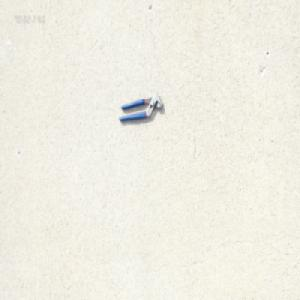Pliers: (117, 93, 163, 123)
